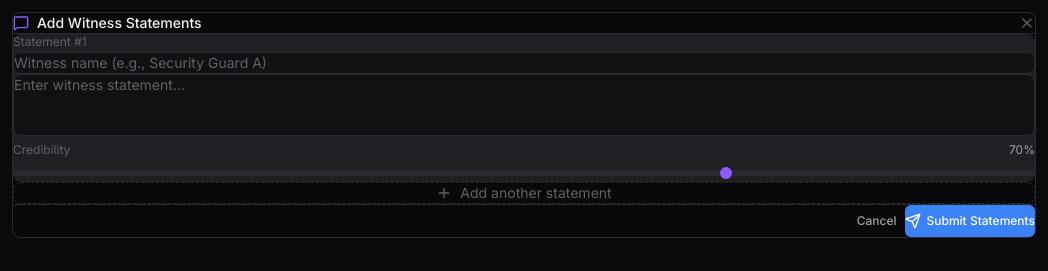
it: WitnessForm › shows error on API failure
Fill and submit
Type "Test" into the field with placeholder "Witness name (e.g., Security Guard A)" at (524, 63), box [13,52,1035,74]
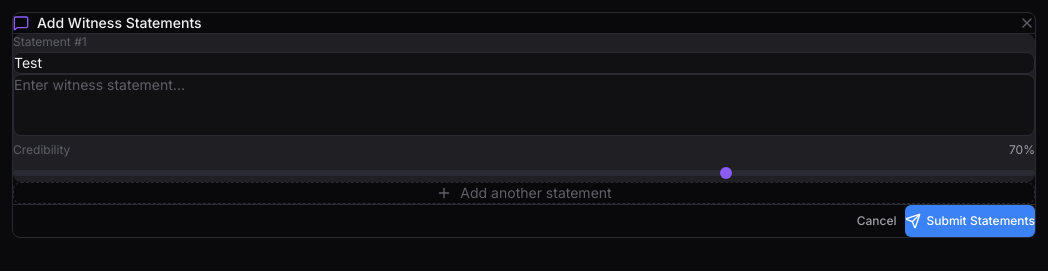
Type "Content" into the text box with placeholder "Enter witness statement..." at (524, 105), box [13,74,1035,136]
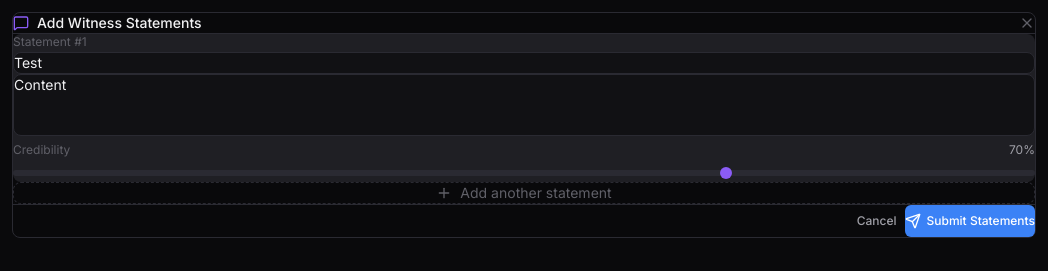
Click the button "Submit Statements" at (970, 221), box [904,205,1035,237]
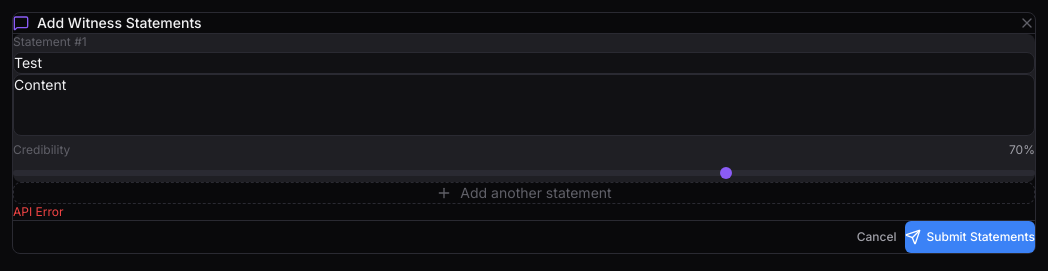
Now the text "API Error" is shown, box [13,204,64,219]
